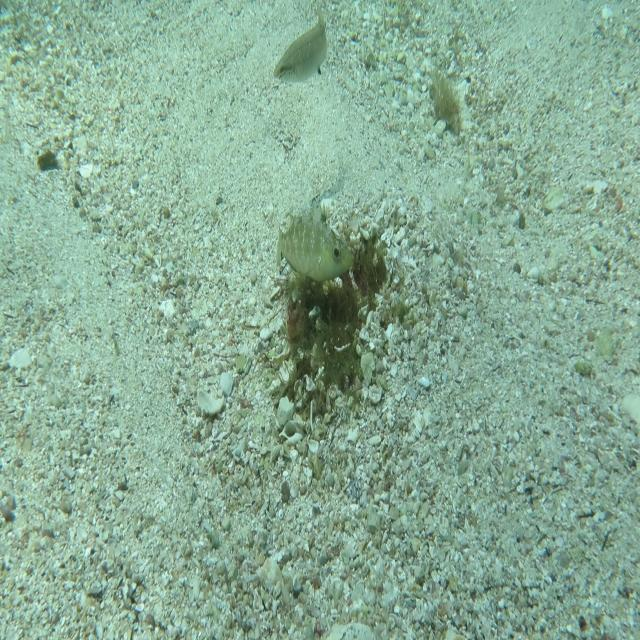FAN: (275, 200, 355, 282)
core_nest: (338, 260, 378, 298)
female: (272, 2, 328, 86)
nest: (273, 218, 402, 430)
vegetation: (428, 75, 462, 145), (37, 149, 58, 173)
